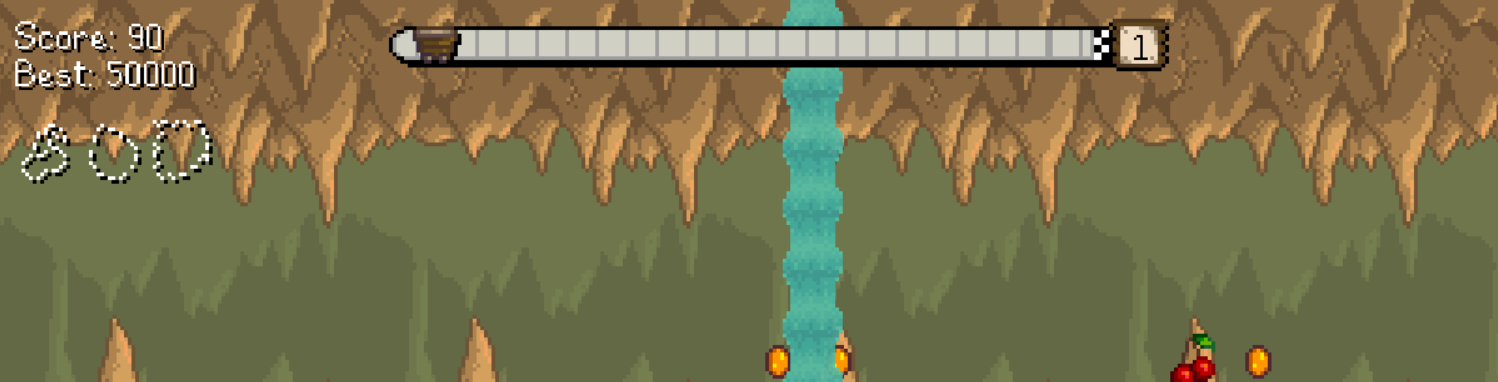cherry: (1169, 316, 1216, 381)
coins: (1245, 345, 1271, 377), (767, 345, 789, 378), (835, 346, 851, 373)
